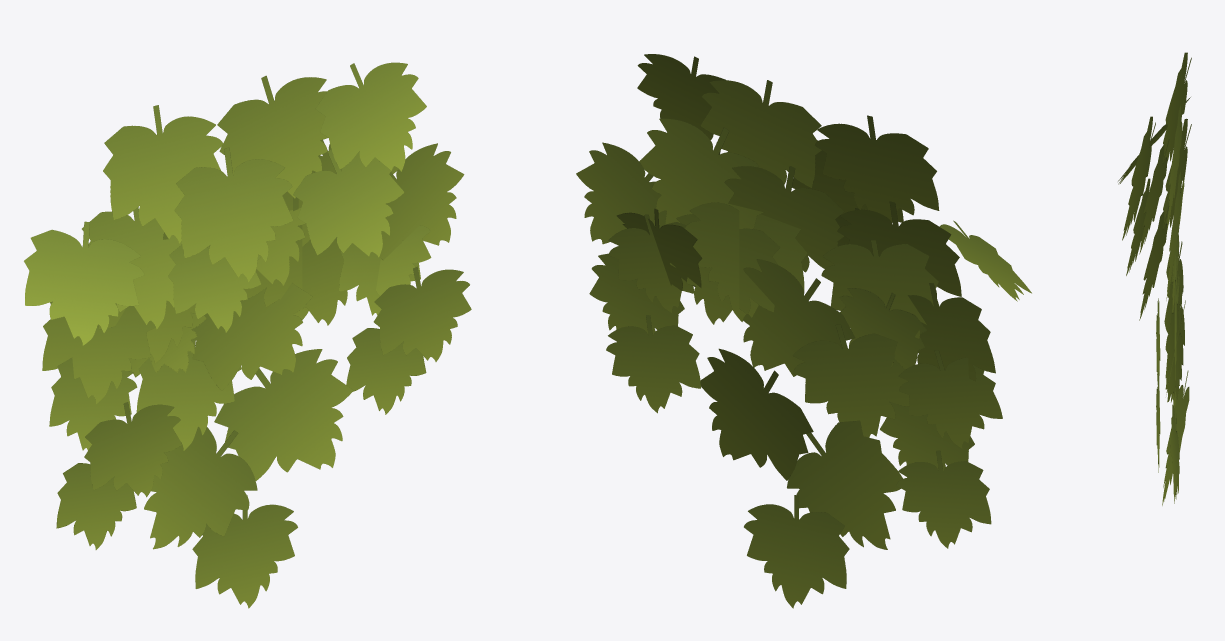
File: FBX_vines.fbx
3 renders of one model, left to right at view 1: azimuth 30°, elevation 25°; view 2: azimuth 150°, elevation 25°; view 3: azimuth 270°, elevation 25°, orthographic. The views are drawn at different scales.
Parts seen in each view (by area): view 1: MESH_Vines, MESH_Vines_02; view 2: MESH_Vines, MESH_Vines_02; view 3: MESH_Vines_02, MESH_Vines.
Part boxes in pixels (box(x1,y1,x2,y2)): MESH_Vines: box(98, 62, 426, 608); MESH_Vines_02: box(24, 143, 471, 549); MESH_Vines: box(637, 54, 939, 608); MESH_Vines_02: box(576, 142, 1031, 548); MESH_Vines_02: box(1118, 97, 1191, 501); MESH_Vines: box(1122, 52, 1191, 505).
Bounding box in the file's own units: 110 × 117 × 24.54.
